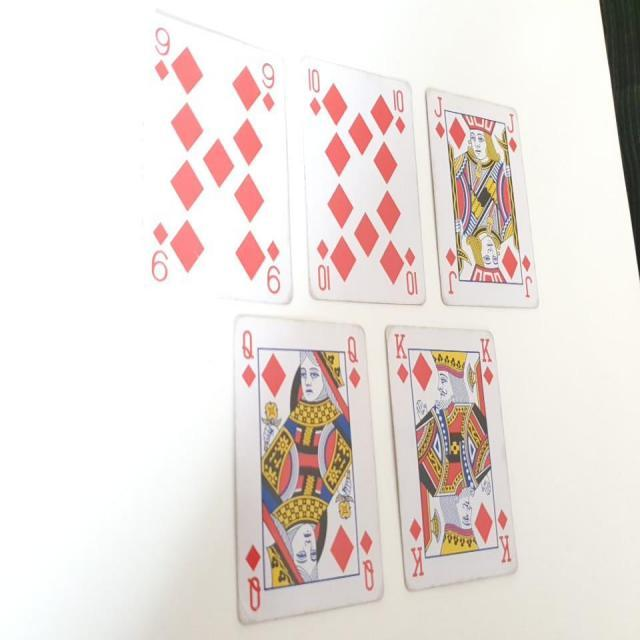10 of diamonds: (298, 56, 428, 310)
9 of diamonds: (146, 10, 295, 306)
jack of diamonds: (422, 87, 540, 309)
king of diamonds: (382, 322, 520, 594)
queen of diamonds: (230, 310, 388, 627)
